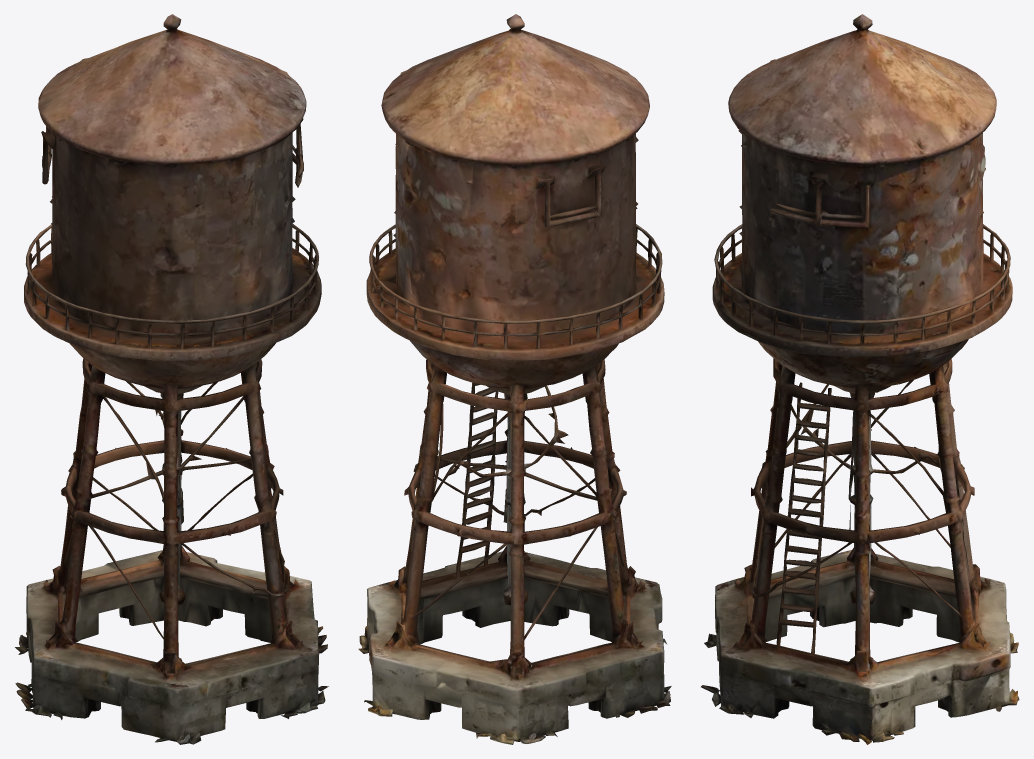
Rendered from bg_watertower.glb.
The picture shows the model from 3 angles, left to right: view 1: azimuth 30°, elevation 25°; view 2: azimuth 150°, elevation 25°; view 3: azimuth 270°, elevation 25°; orthographic projection.
Parts seen in each view (by area): view 1: tripo_node_23a079b4-df51-4e1f-9116-db69d34fabe9; view 2: tripo_node_23a079b4-df51-4e1f-9116-db69d34fabe9; view 3: tripo_node_23a079b4-df51-4e1f-9116-db69d34fabe9.
Boxes of the visible parts, x1=… form: tripo_node_23a079b4-df51-4e1f-9116-db69d34fabe9: x1=15, y1=14, x2=328, y2=744; tripo_node_23a079b4-df51-4e1f-9116-db69d34fabe9: x1=358, y1=14, x2=671, y2=744; tripo_node_23a079b4-df51-4e1f-9116-db69d34fabe9: x1=701, y1=14, x2=1019, y2=744.
Bounding box in the file's own units: 0.479 × 1 × 0.4393.
1 material, 1 textured.
